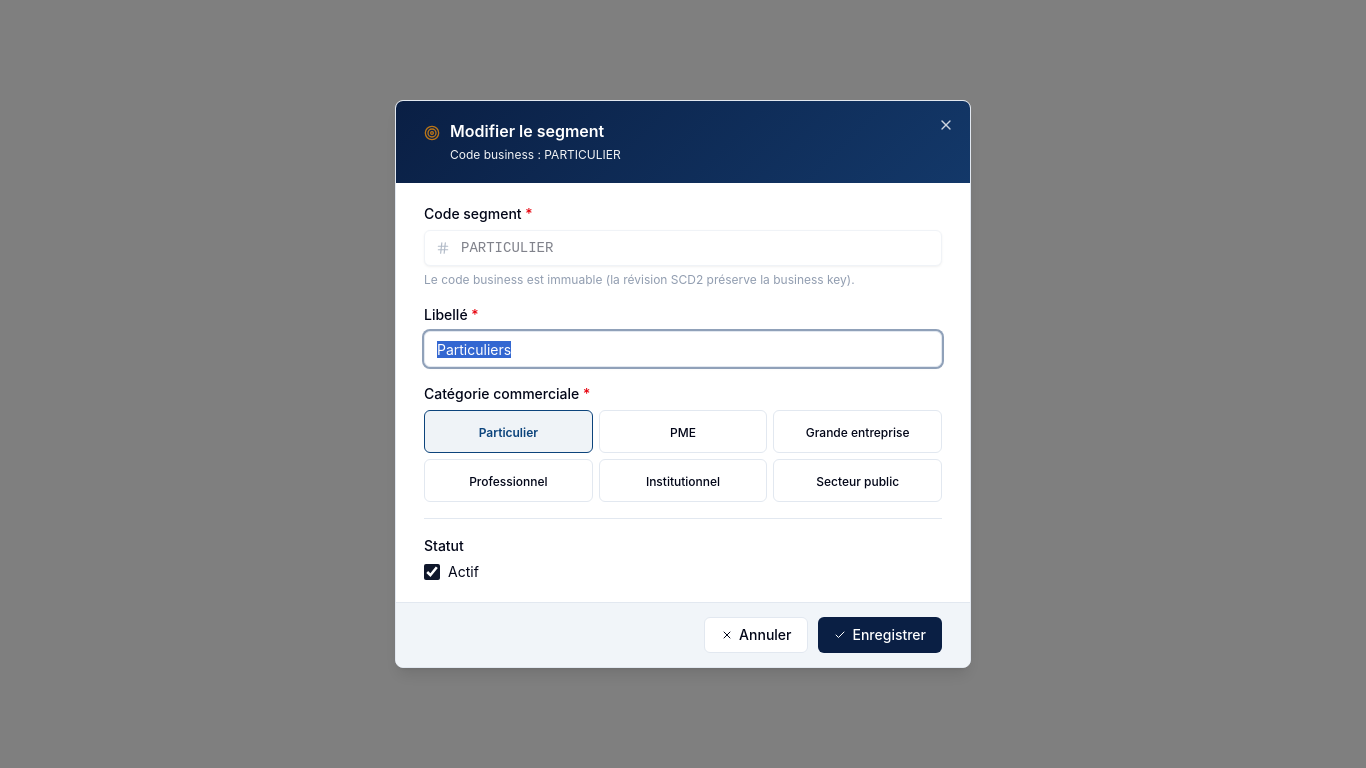
Test case: SegmentFormDrawer › mode edit : bandeau bleu si seul est_actif modifié
Note: Décocher la case Actif
Click the checkbox named "Actif": (432, 572) [424, 564, 440, 580]
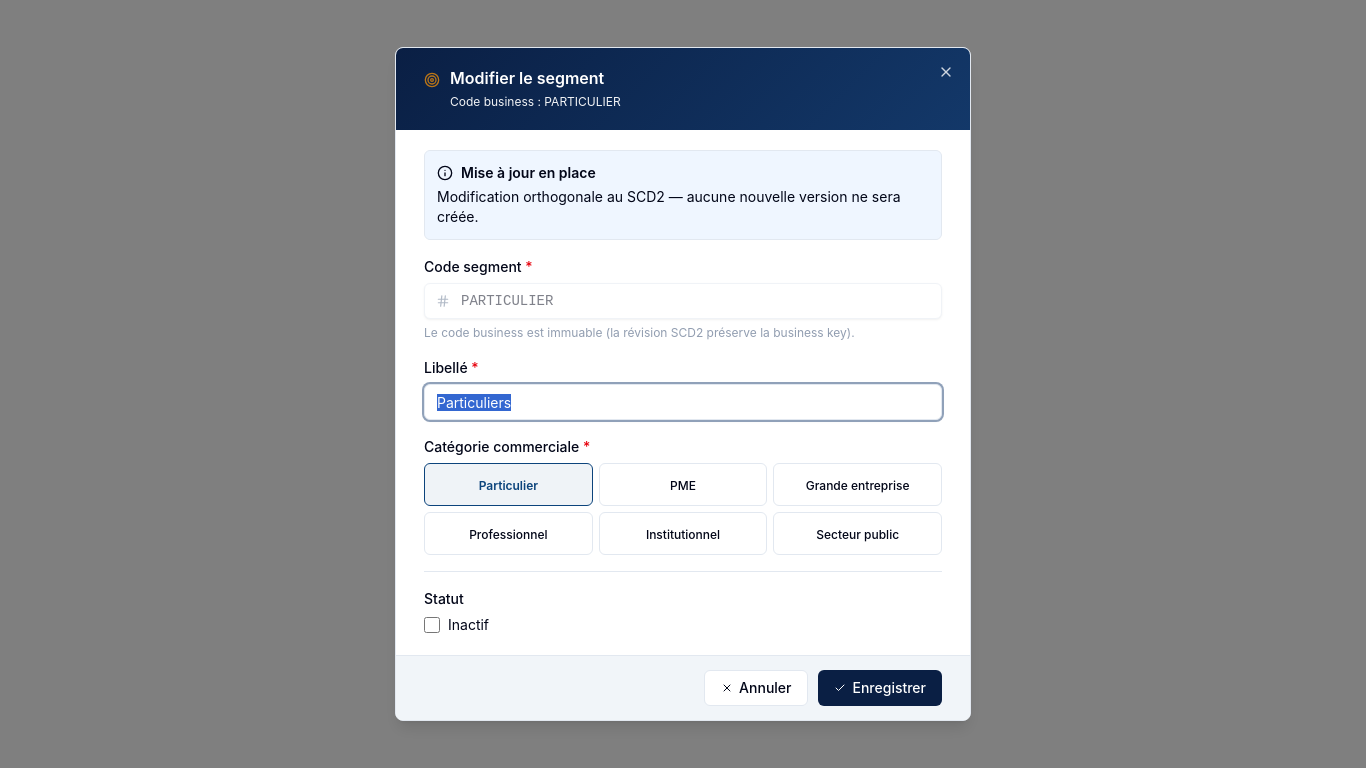
Result: the checkbox named "Actif" is not checked at [424, 617, 440, 633]
Result: the text "Mise à jour en place" is shown at [437, 164, 596, 181]
Result: the text "orthogonale au SCD2" is shown at [437, 188, 900, 225]
